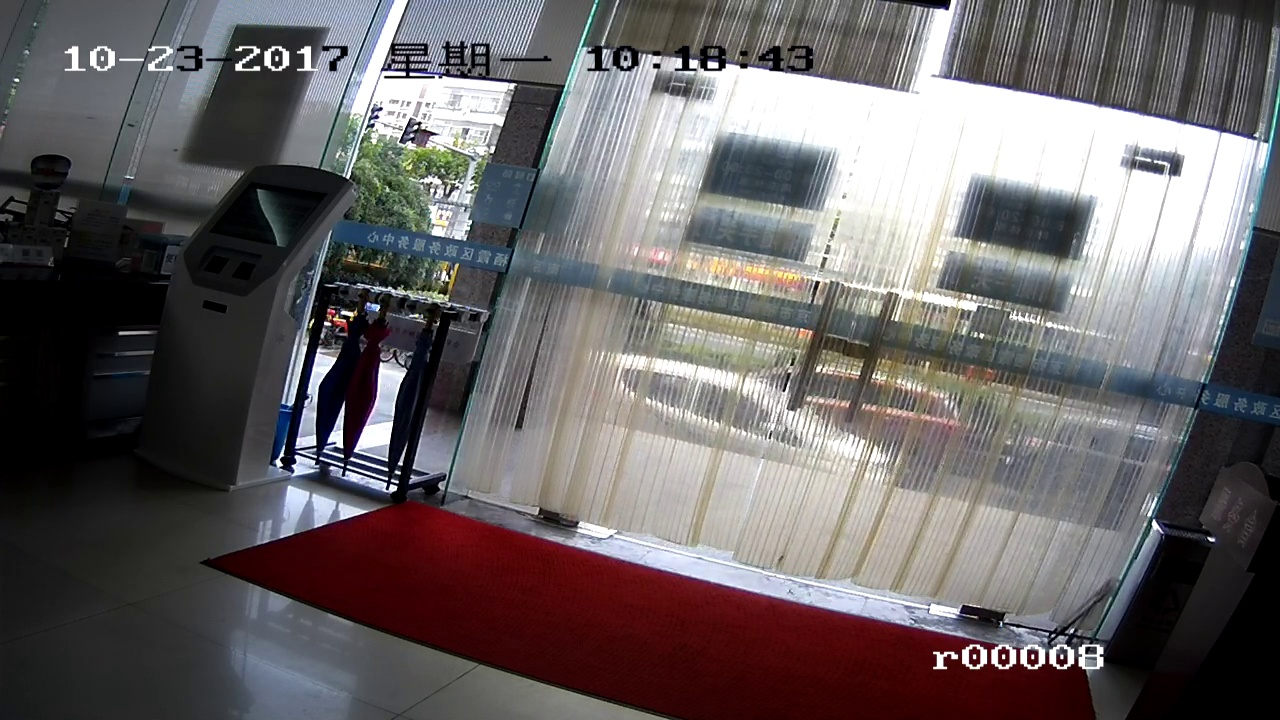monitor: (220, 179, 315, 269)
